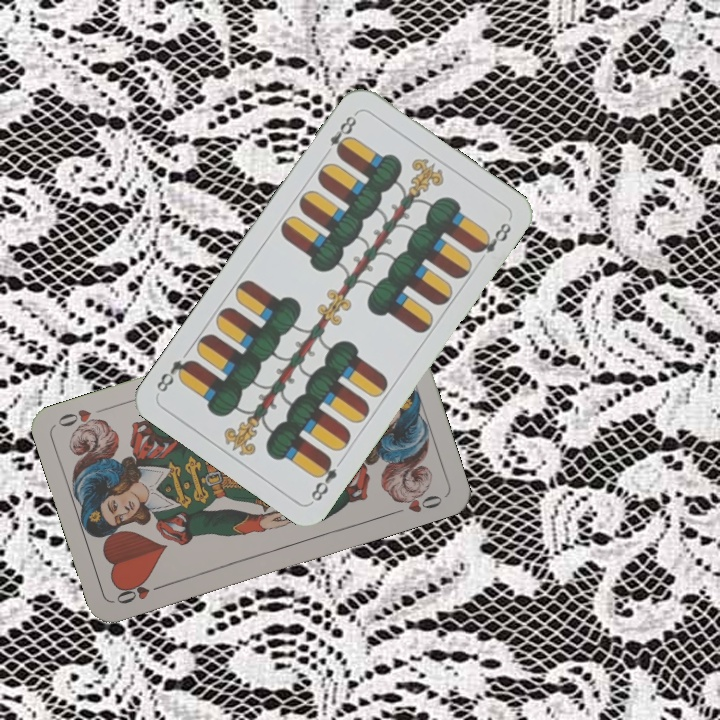E8: (325, 108, 360, 159), (306, 452, 340, 504)
HO: (112, 577, 169, 607)
